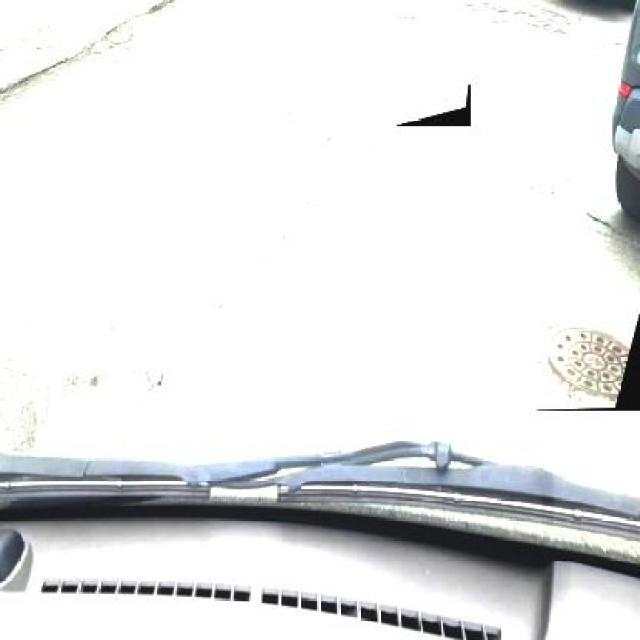Manhole: (537, 314, 640, 411), (397, 85, 471, 126)
Pothole: (82, 370, 103, 390)
